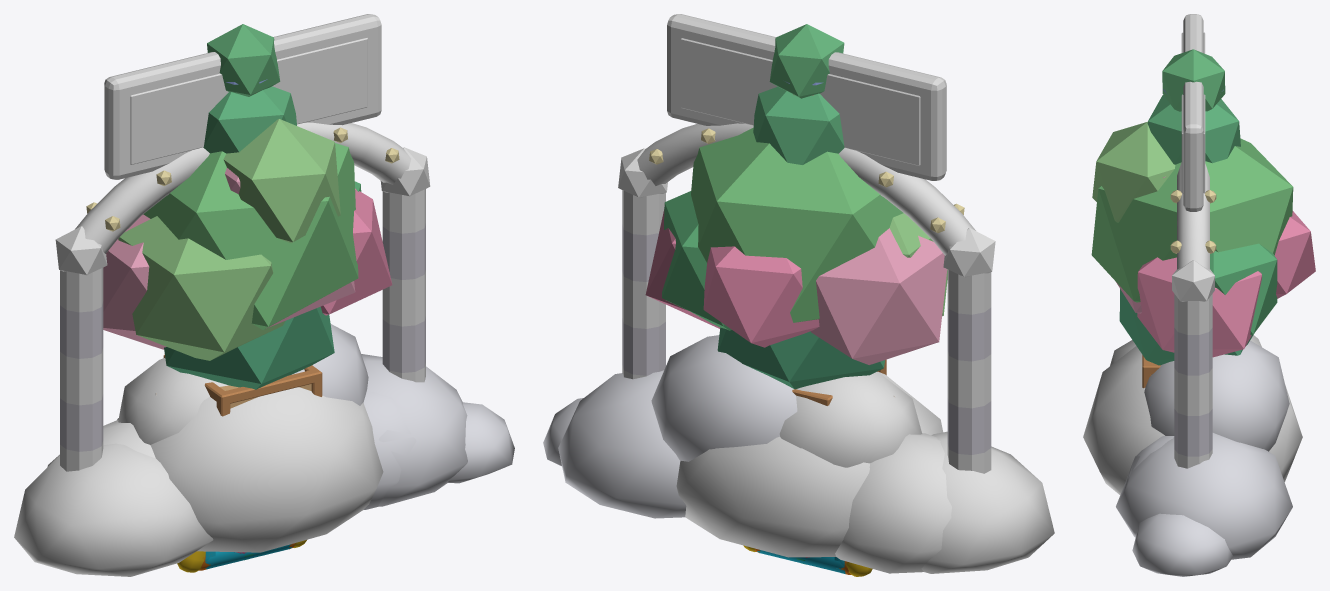
Rendered from props.glb.
3 renders of one model, left to right at view 1: azimuth 30°, elevation 25°; view 2: azimuth 150°, elevation 25°; view 3: azimuth 270°, elevation 25°, orthographic. The views are drawn at different scales.
Parts seen in each view (by area): view 1: cloud_a, portal_arch, tree_round, tree_tall, cloud_b, tree_blossom, crate, letter_E; view 2: cloud_a, portal_arch, tree_round, tree_blossom, cloud_b, tree_tall, letter_E; view 3: cloud_a, tree_round, portal_arch, tree_blossom, tree_tall, cloud_b.
Part boxes in pixels (x1=…): cloud_a: x1=14, y1=324, x2=467, y2=576; portal_arch: x1=55, y1=14, x2=430, y2=471; tree_round: x1=118, y1=119, x2=361, y2=360; tree_tall: x1=164, y1=24, x2=334, y2=389; cloud_b: x1=47, y1=358, x2=514, y2=509; tree_blossom: x1=103, y1=168, x2=392, y2=349; crate: x1=163, y1=354, x2=322, y2=416; letter_E: x1=205, y1=544, x2=292, y2=569; cloud_a: x1=558, y1=335, x2=1054, y2=573; portal_arch: x1=618, y1=14, x2=995, y2=473; tree_round: x1=662, y1=127, x2=947, y2=330; tree_blossom: x1=645, y1=209, x2=947, y2=364; cloud_b: x1=543, y1=372, x2=951, y2=573; tree_tall: x1=717, y1=24, x2=884, y2=389; letter_E: x1=757, y1=550, x2=845, y2=573; cloud_a: x1=1083, y1=340, x2=1302, y2=559; tree_round: x1=1091, y1=121, x2=1293, y2=335; portal_arch: x1=1170, y1=14, x2=1216, y2=468; tree_blossom: x1=1116, y1=176, x2=1315, y2=357; tree_tall: x1=1119, y1=49, x2=1253, y2=365; cloud_b: x1=1126, y1=335, x2=1261, y2=576.
Size of the model in its own units: 4.8 by 5.07 by 2.29.
